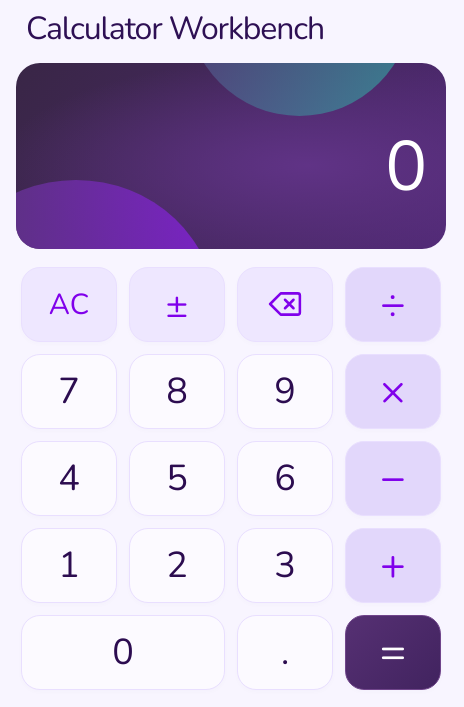
it: calculator keypad › renders a supplied server value instead of doing arithmetic in React
Click the button "2": (177, 565) [129,528,225,603]
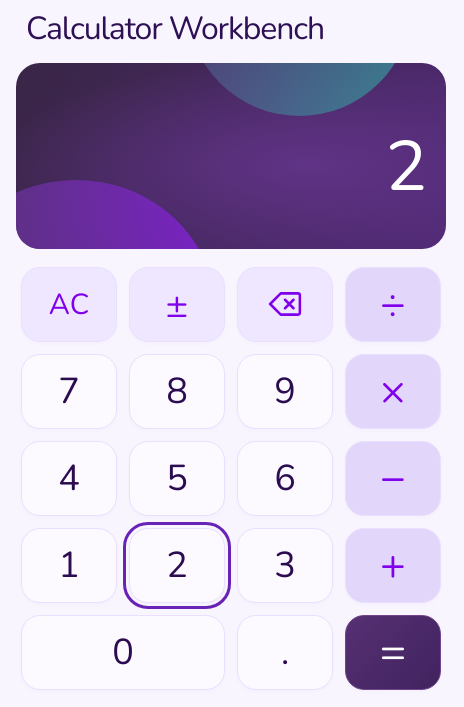
Click the button named "Add": (393, 565) [345,528,441,603]
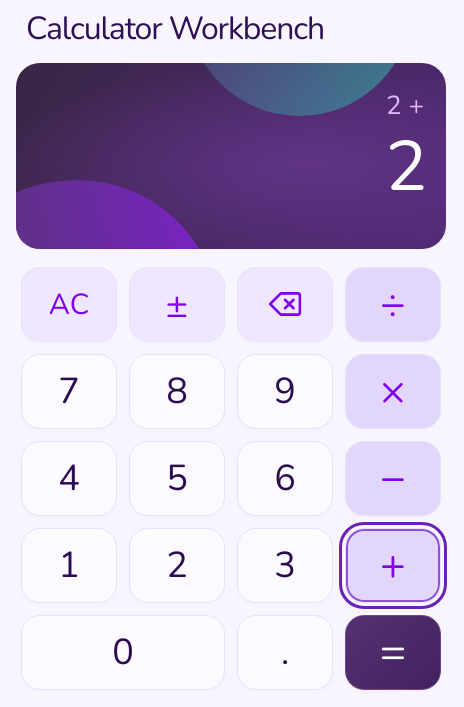
Click the button "3": (285, 565) [237,528,333,603]
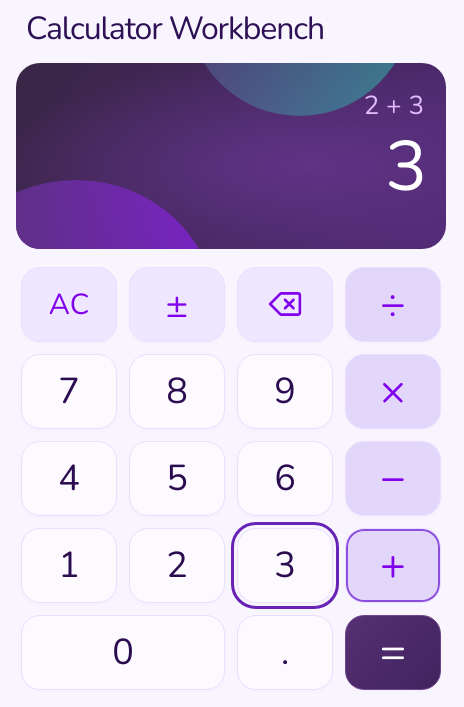
Click the button named "Equals": (393, 652) [345,615,441,690]
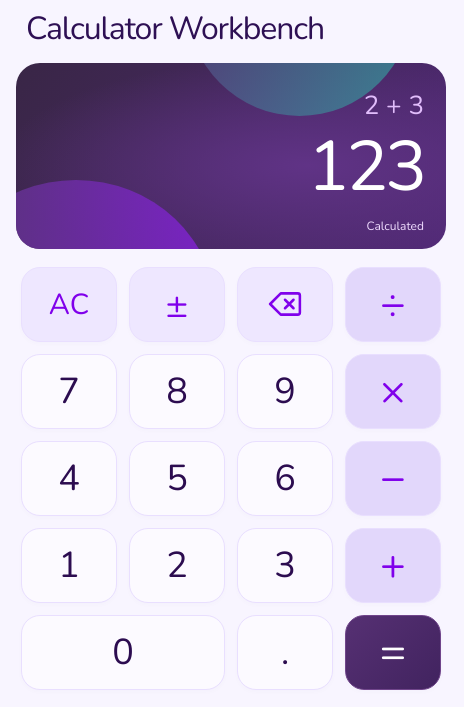
Check: the text named "Result" reads "123", box [307,119,424,215]
